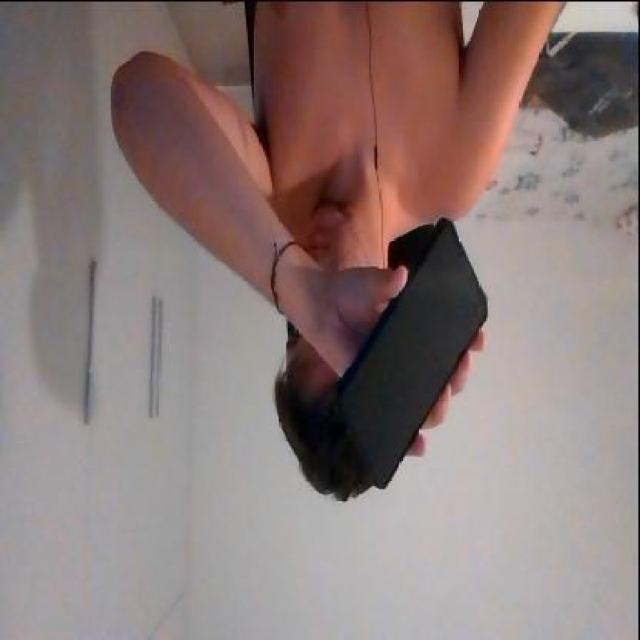mobile: (337, 217, 486, 491)
